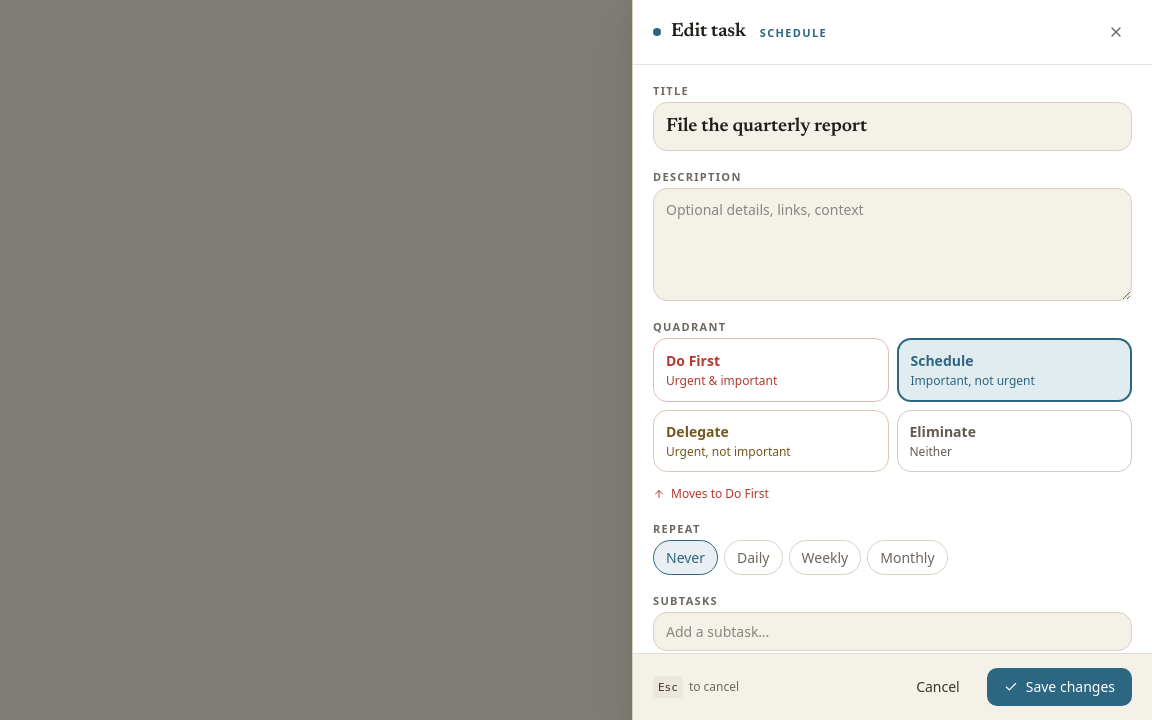
Scenario: <EditDrawer> escalation hint › goes away as soon as an urgent quadrant is chosen
Expected: the element with test id "edit-escalation-hint" is shown, [653, 485, 769, 502]
Click the button with test id "edit-quadrant-q1" at (771, 370), box [653, 338, 888, 402]
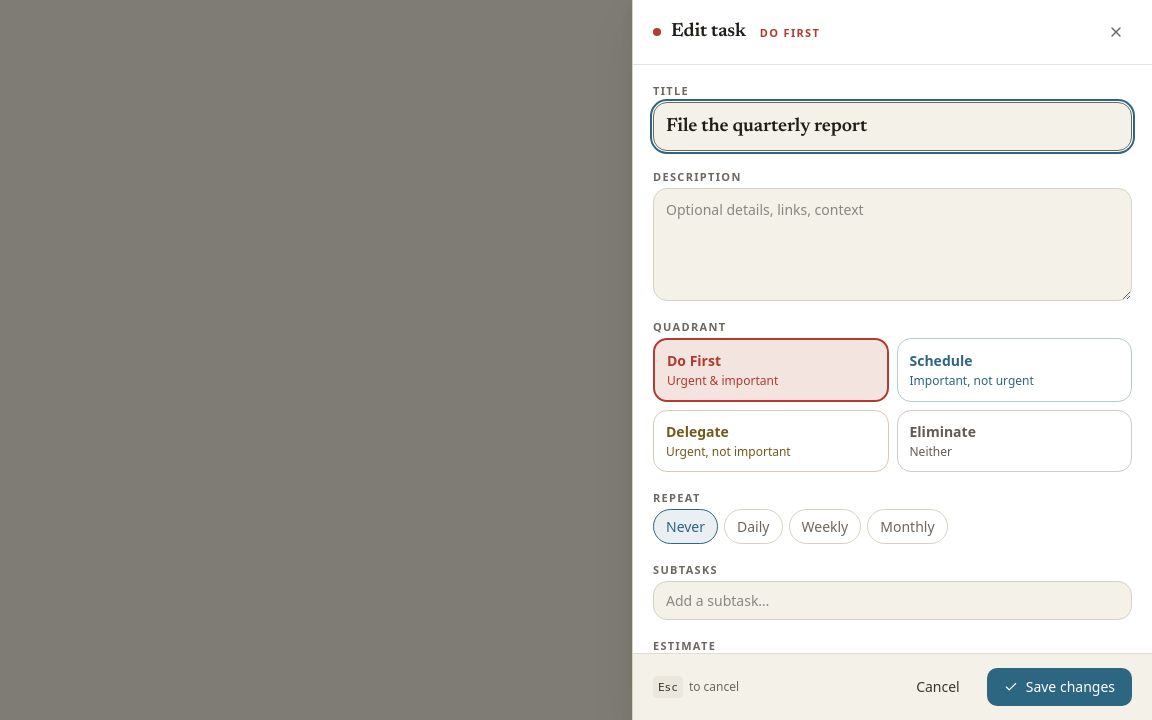
Expected: the element with test id "edit-escalation-hint" is gone
